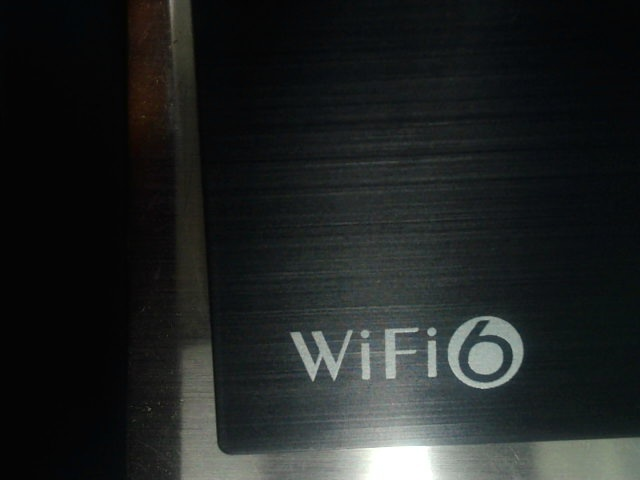AK_ZTEWIFI6Black: (270, 305, 538, 403)
